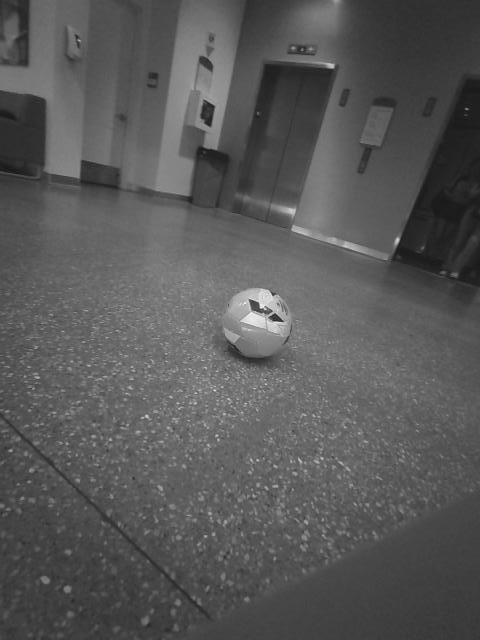ball: (213, 169, 243, 199)
